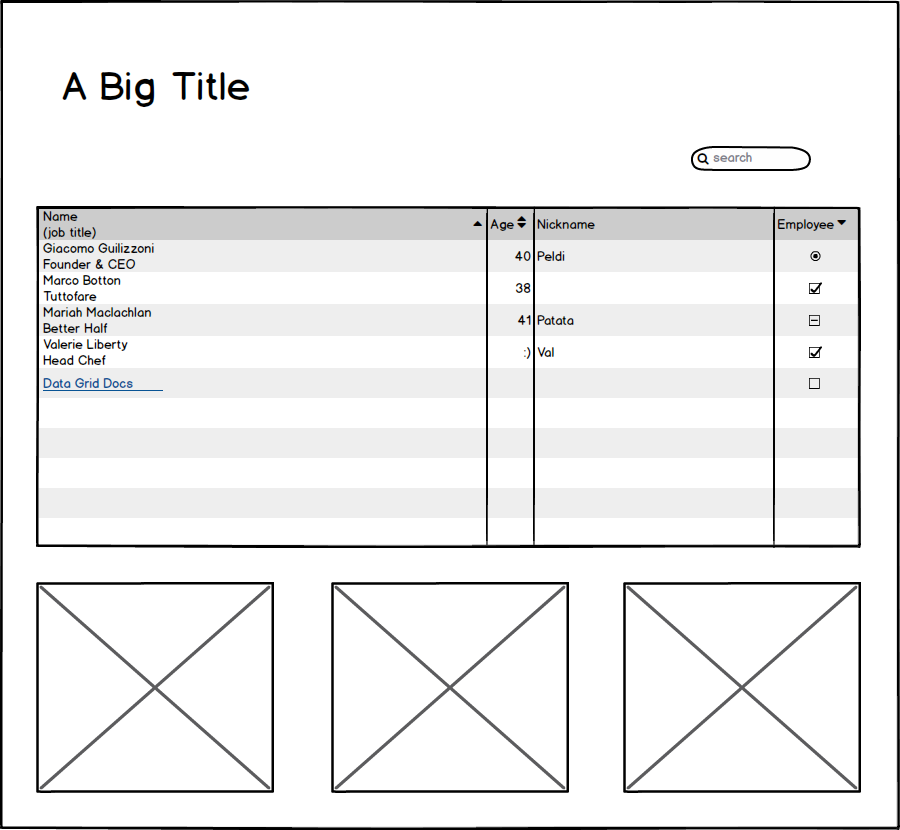h1: (56, 58, 266, 125)
image: (615, 577, 869, 799), (30, 574, 278, 799), (326, 578, 579, 797)
search: (683, 137, 817, 177)
table: (27, 199, 868, 557)
